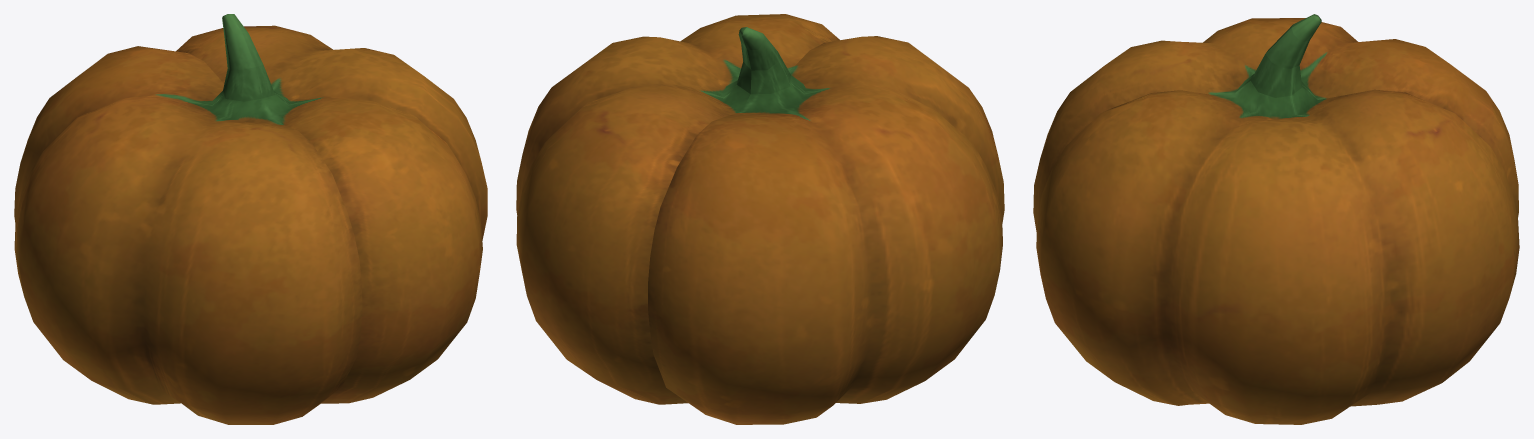
Rendered from SM_Farm_Pumpkin_02.fbx.
3 views of the same model, side by side, from view 1: azimuth 30°, elevation 25°; view 2: azimuth 150°, elevation 25°; view 3: azimuth 270°, elevation 25° (orthographic). The views are drawn at different scales.
Parts seen in each view (by area): view 1: SM_Farm_Pumpkin_02_LOD0; view 2: SM_Farm_Pumpkin_02_LOD0; view 3: SM_Farm_Pumpkin_02_LOD0.
Boxes of the visible parts, <box> form: SM_Farm_Pumpkin_02_LOD0: <box>14,14,487,424</box>; SM_Farm_Pumpkin_02_LOD0: <box>516,14,1004,424</box>; SM_Farm_Pumpkin_02_LOD0: <box>1033,14,1519,424</box>.
Bounding box in the file's own units: 39.43 × 30.65 × 37.76.
